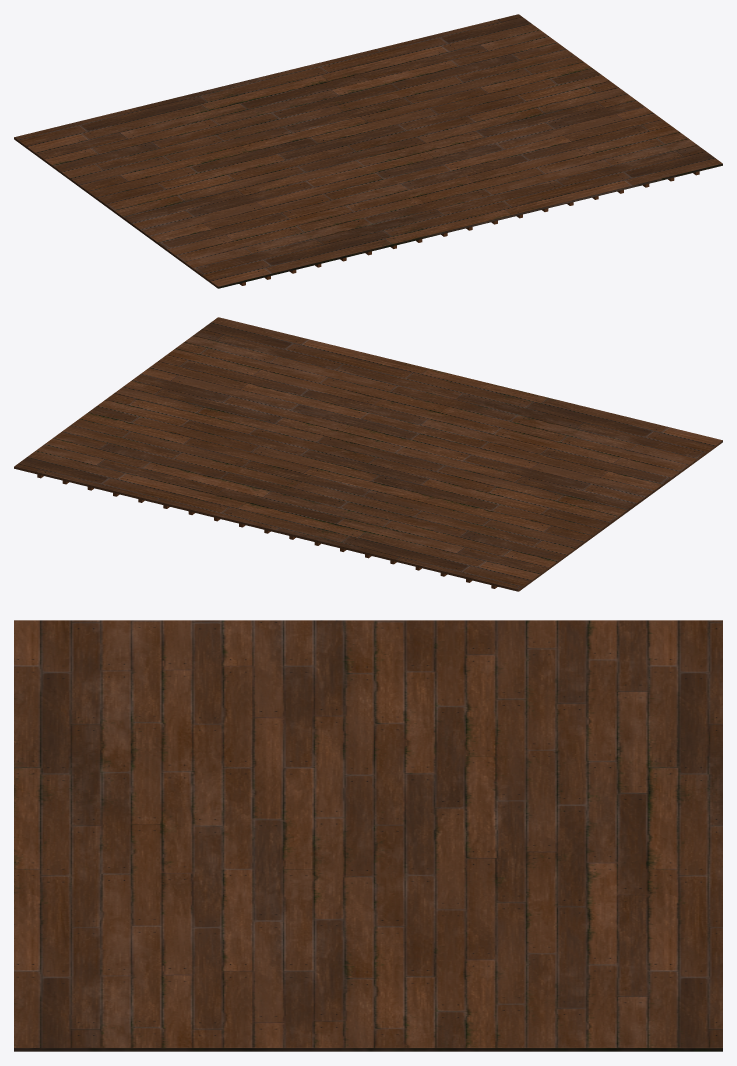
Rendered from Ceilling.fbx.
The picture shows the model from 3 angles, top to bottom: view 1: azimuth 30°, elevation 25°; view 2: azimuth 150°, elevation 25°; view 3: azimuth 270°, elevation 25°; orthographic projection. The views are drawn at different scales.
Visible parts, largest first — view 1: Ceilling_JP_LOD0; view 2: Ceilling_JP_LOD0; view 3: Ceilling_JP_LOD0.
Part boxes in pixels (box(x1,y1,x2,y2)): Ceilling_JP_LOD0: box(14, 14, 722, 288); Ceilling_JP_LOD0: box(14, 317, 722, 591); Ceilling_JP_LOD0: box(14, 620, 722, 1051).
Size of what is drawn, in the model's own units: 905 by 8.9 by 634.
